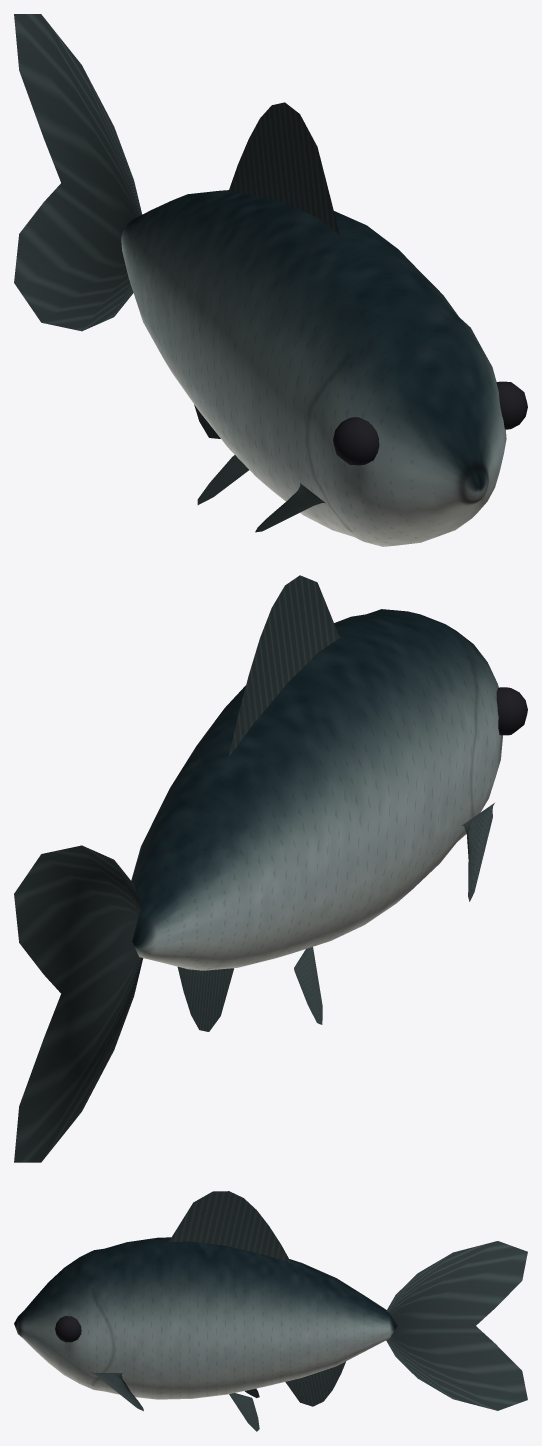
File: fish_school.glb
3 views of the same model, one above another, from view 1: azimuth 30°, elevation 25°; view 2: azimuth 150°, elevation 25°; view 3: azimuth 270°, elevation 25° (orthographic). The views are drawn at different scales.
Parts seen in each view (by area): view 1: fish_school; view 2: fish_school; view 3: fish_school.
Boxes of the visible parts, bbox=[...] form: fish_school: bbox=[14, 14, 527, 546]; fish_school: bbox=[14, 575, 527, 1162]; fish_school: bbox=[14, 1191, 527, 1431].
Bounding box in the file's own units: 0.4364 × 0.7889 × 1.64.
Materials: 2 (1 with a texture image).
